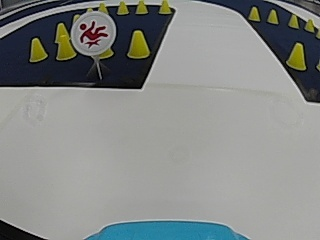cone: (126, 29, 150, 60), (286, 41, 307, 71), (55, 35, 75, 61), (28, 37, 46, 62), (247, 6, 260, 21), (158, 0, 171, 15), (117, 0, 129, 15), (135, 0, 147, 15), (267, 9, 278, 24), (288, 13, 298, 29), (98, 2, 108, 15), (305, 18, 314, 32)
tumble: (76, 15, 112, 48)
